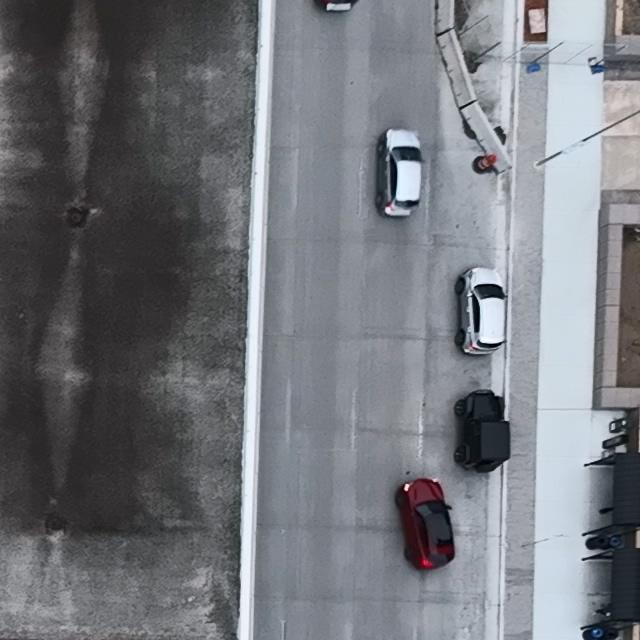car: (394, 478, 455, 570), (453, 389, 511, 474), (455, 266, 508, 355), (377, 128, 426, 218)
